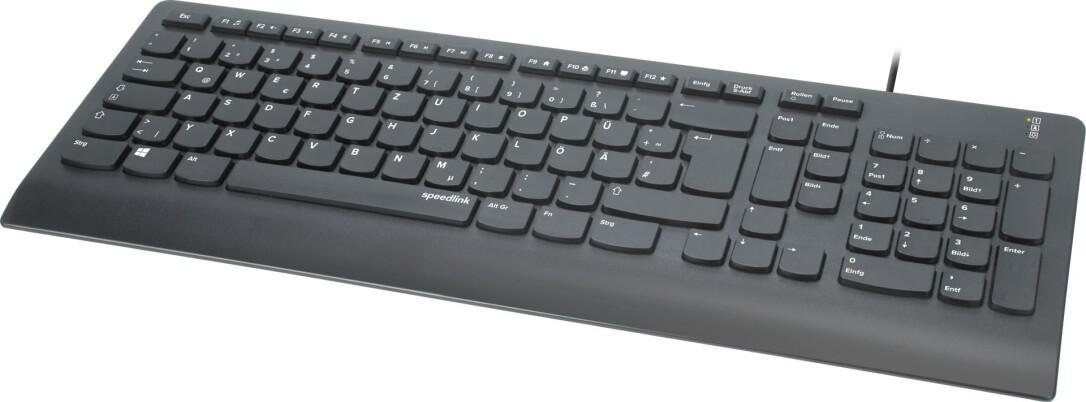0: (538, 77, 580, 106)
1: (176, 30, 218, 56)
2: (215, 36, 257, 61)
3: (255, 40, 296, 66)
4: (295, 47, 336, 72)
5: (334, 51, 376, 80)
6: (374, 56, 416, 83)
7: (414, 61, 457, 89)
8: (455, 67, 497, 95)
9: (496, 73, 538, 100)
a: (170, 89, 214, 115)
accent: (624, 88, 665, 118)
ae: (589, 148, 634, 177)
alt-left: (170, 150, 229, 181)
altgr-right: (473, 195, 534, 228)
b: (336, 142, 381, 171)
c: (252, 130, 297, 158)
caret: (145, 29, 180, 53)
comma: (464, 161, 510, 191)
d: (250, 100, 294, 127)
del: (667, 96, 754, 129)
e: (258, 70, 300, 97)
enter: (678, 129, 745, 193)
f: (292, 105, 335, 133)
g: (333, 112, 376, 138)
h: (373, 117, 418, 144)
hash: (634, 153, 677, 184)
i: (462, 98, 506, 126)
j: (417, 123, 460, 151)
k: (458, 129, 503, 157)
keyboard: (2, 2, 1084, 401)
l: (502, 135, 546, 163)
less: (129, 112, 175, 140)
m: (421, 154, 465, 185)
minus: (553, 174, 598, 204)
n: (378, 148, 423, 178)
o: (503, 104, 548, 132)
oe: (545, 142, 589, 171)
p: (547, 110, 591, 139)
plus: (633, 122, 678, 150)
point: (509, 167, 554, 198)
q: (178, 59, 222, 86)
r: (298, 76, 341, 103)
s: (210, 94, 254, 121)
shift-left: (78, 103, 135, 134)
shift-lock: (102, 79, 174, 109)
shift-right: (599, 181, 726, 223)
space: (221, 156, 480, 228)
ss: (581, 83, 623, 112)
strg-left: (57, 134, 126, 165)
strg-right: (586, 213, 659, 248)
t: (338, 82, 381, 109)
tab: (121, 54, 181, 79)
u: (421, 92, 463, 121)
ue: (590, 116, 634, 145)
v: (294, 136, 339, 165)
w: (218, 65, 261, 92)
x: (211, 124, 256, 152)
y: (170, 118, 215, 146)
z: (379, 87, 422, 115)
